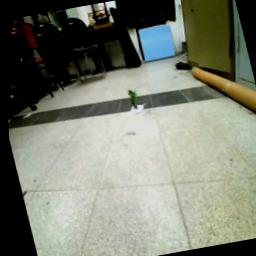herb: (125, 89, 141, 113)
